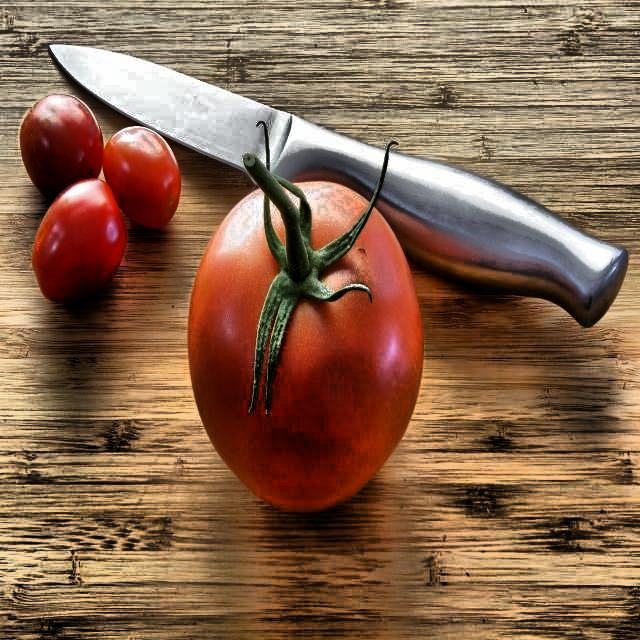knife: (45, 29, 631, 336)
